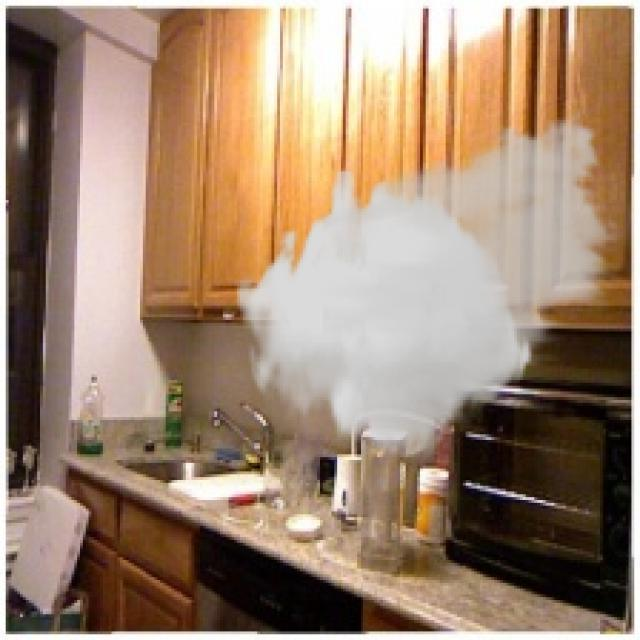Smoke: (234, 102, 623, 458)
